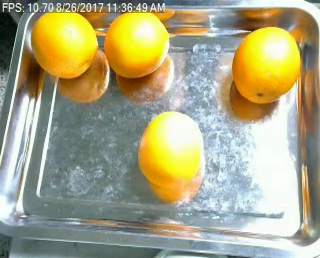Orange: (231, 26, 300, 104), (137, 111, 205, 185), (31, 9, 98, 78), (105, 10, 169, 78)
